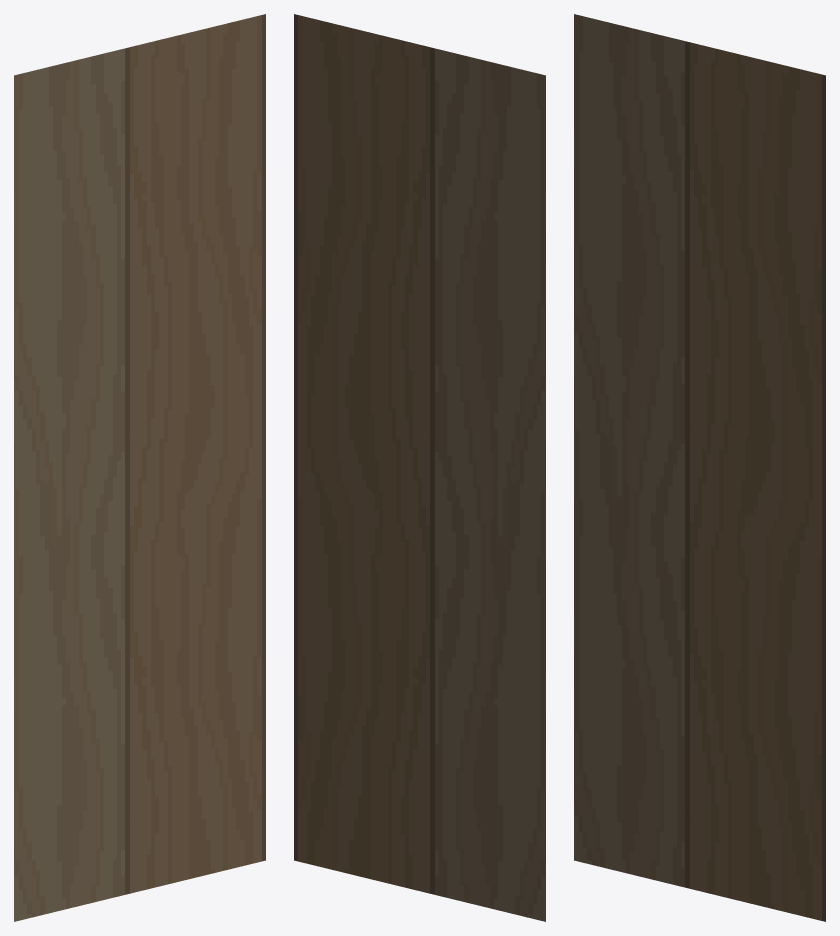
Rendered from kd_stage_135c43_4_8_bounded_piece_0.glb.
The picture shows the model from 3 angles, left to right: view 1: azimuth 30°, elevation 25°; view 2: azimuth 150°, elevation 25°; view 3: azimuth 330°, elevation 25°; orthographic projection.
Visible parts, largest first — view 1: kd_stage_135c43_4_8_bounded_piece_0; view 2: kd_stage_135c43_4_8_bounded_piece_0; view 3: kd_stage_135c43_4_8_bounded_piece_0.
Part boxes in pixels (box(x1,y1,x2,y2)): kd_stage_135c43_4_8_bounded_piece_0: box(14, 14, 265, 921); kd_stage_135c43_4_8_bounded_piece_0: box(294, 14, 545, 921); kd_stage_135c43_4_8_bounded_piece_0: box(574, 14, 825, 921).
Size of the model in its own units: 0.1705 by 0.5475 by 2.38e-07.
Materials: 1 (1 with a texture image).
